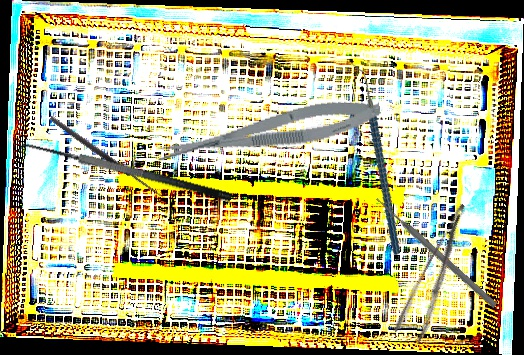Chopper: (322, 60, 429, 256)
Dressing Forceps: (390, 202, 488, 345)
Hook Surgical: (48, 109, 169, 200)
Micro Scissor: (153, 91, 384, 170)
Pusher: (373, 194, 499, 310)
Spatula Surgical: (16, 132, 233, 221)
